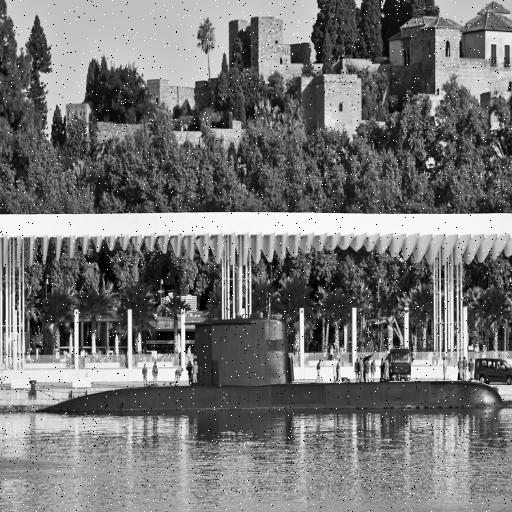submarine: (42, 321, 505, 414)
